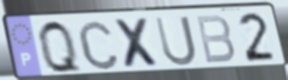2: (236, 10, 280, 65)
B: (194, 13, 237, 66)
C: (75, 18, 122, 72)
Q: (36, 18, 85, 76)
U: (153, 14, 199, 68)
X: (112, 16, 164, 70)
